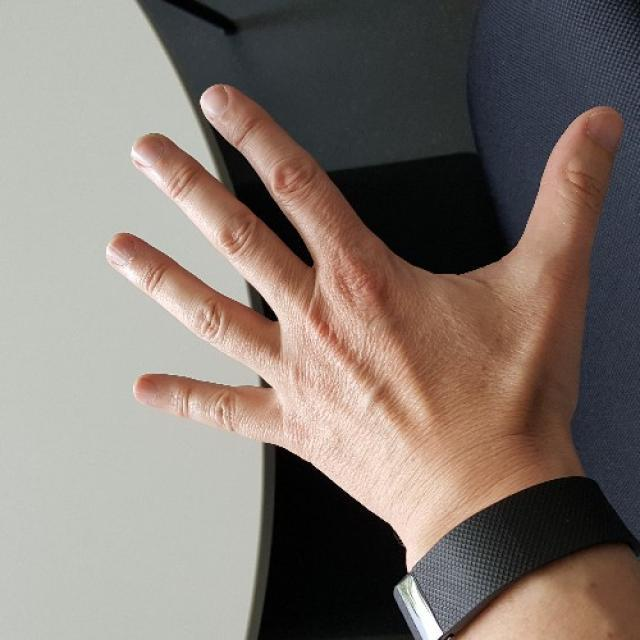paper: (103, 80, 629, 467)
